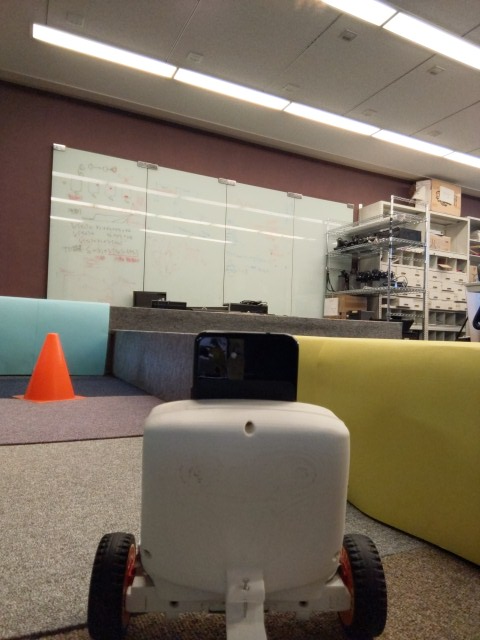br: (81, 324, 397, 640)
